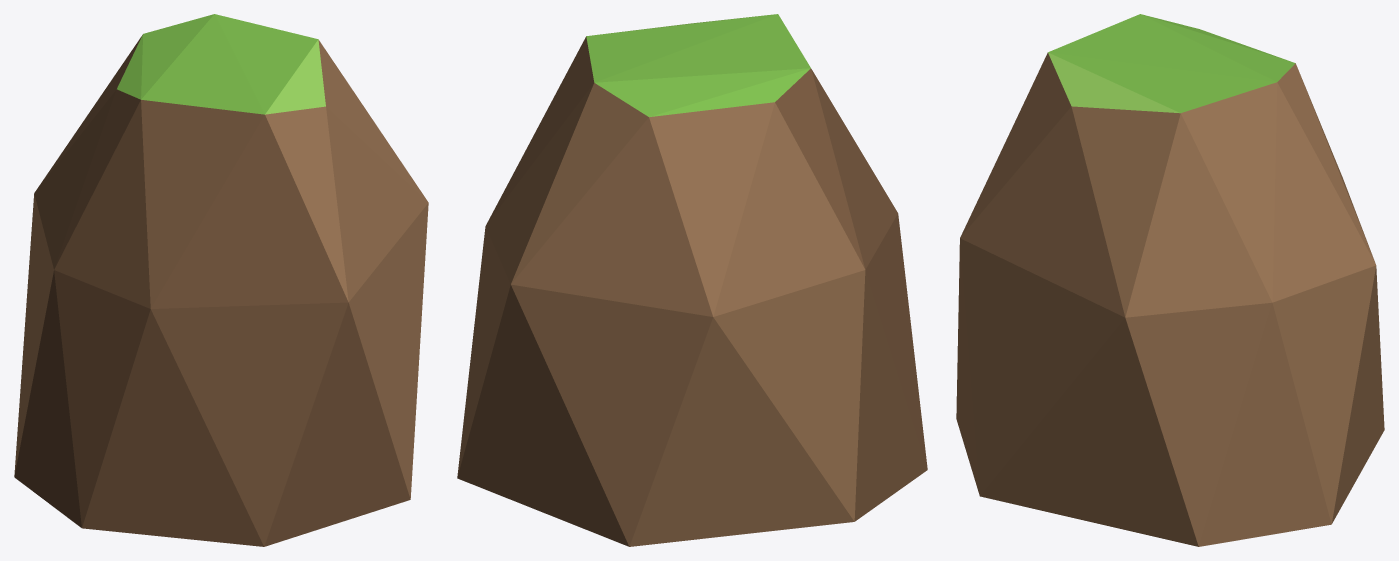
Rendered from rock_smallH.glb.
3 views of the same model, side by side, from view 1: azimuth 30°, elevation 25°; view 2: azimuth 150°, elevation 25°; view 3: azimuth 270°, elevation 25° (orthographic). The views are drawn at different scales.
Parts seen in each view (by area): view 1: rock_smallH; view 2: rock_smallH; view 3: rock_smallH.
Part boxes in pixels (<box>): rock_smallH: <box>14,14,428,546</box>; rock_smallH: <box>457,14,927,546</box>; rock_smallH: <box>956,14,1384,546</box>.
Bounding box in the file's own units: 0.4027 × 0.3951 × 0.3924.
Materials: 1 (1 with a texture image).
